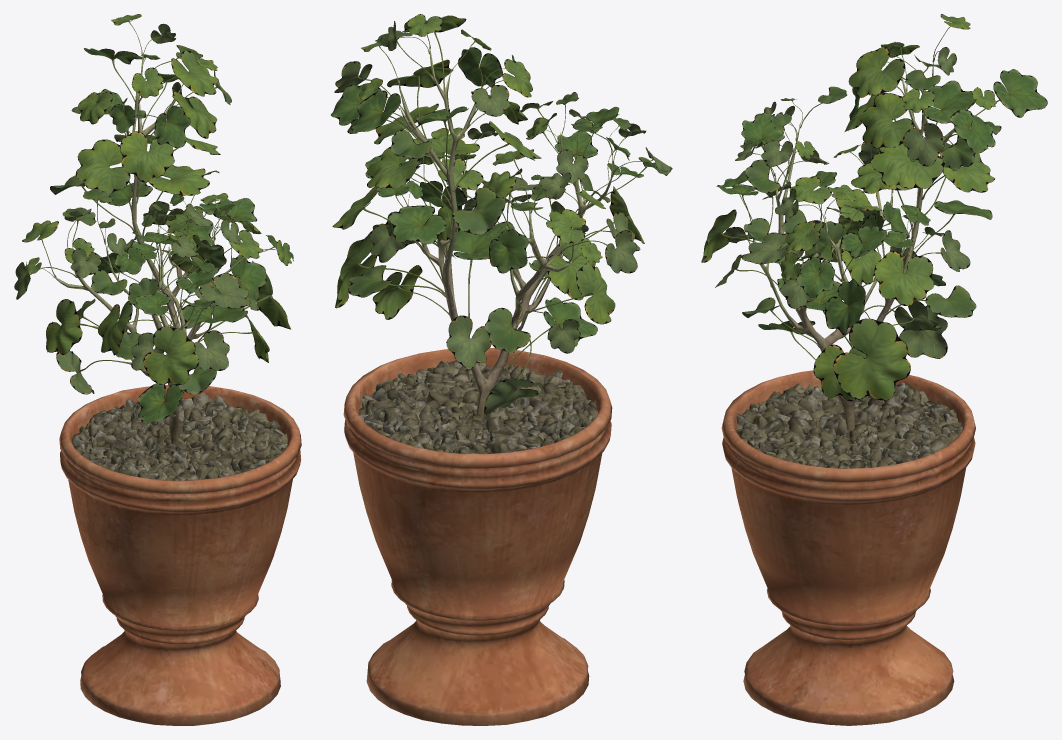
File: potted_plant_01.glb
3 views of the same model, side by side, from view 1: azimuth 30°, elevation 25°; view 2: azimuth 150°, elevation 25°; view 3: azimuth 270°, elevation 25° (orthographic). The views are drawn at different scales.
Visible parts, largest first — view 1: potted_plant_01_stem, potted_plant_01_leaves; view 2: potted_plant_01_stem, potted_plant_01_leaves; view 3: potted_plant_01_stem, potted_plant_01_leaves.
Boxes of the visible parts, x1,y1,x2,y2 form: potted_plant_01_stem: (54, 54, 301, 725); potted_plant_01_leaves: (14, 14, 293, 424); potted_plant_01_stem: (343, 48, 613, 725); potted_plant_01_leaves: (331, 14, 672, 414); potted_plant_01_stem: (721, 55, 975, 725); potted_plant_01_leaves: (701, 14, 1047, 401).
Bounding box in the file's own units: 0.5874 × 1.34 × 0.6336.
Materials: 2 (2 with a texture image).
